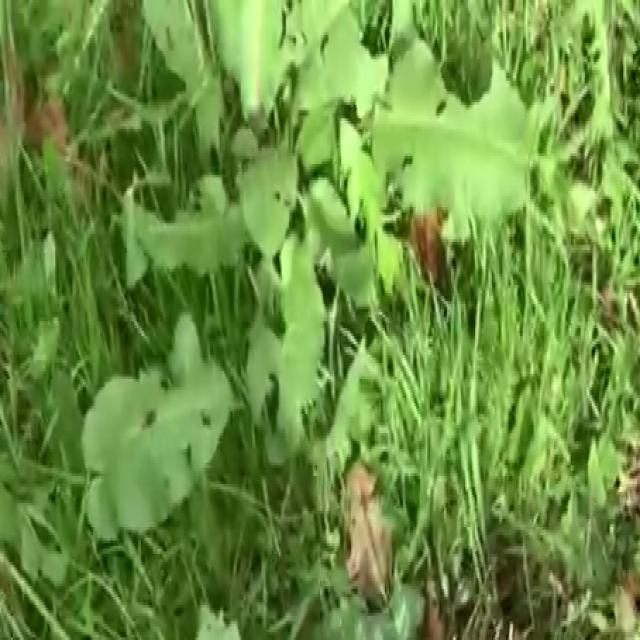organic waste: (73, 0, 564, 635)
